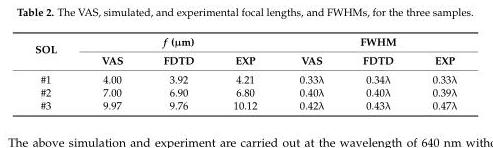table: (34, 34, 456, 111)
table column: (142, 34, 212, 111), (342, 34, 412, 111), (212, 34, 277, 111), (277, 34, 342, 111), (78, 34, 142, 111), (34, 34, 78, 111), (412, 34, 456, 111)
table column header: (34, 34, 456, 69)
table row: (34, 50, 456, 69), (34, 34, 456, 50), (34, 69, 456, 85), (34, 85, 456, 98), (34, 98, 456, 111)
table spanning cell: (78, 34, 277, 50), (277, 34, 456, 50), (34, 34, 78, 69)
